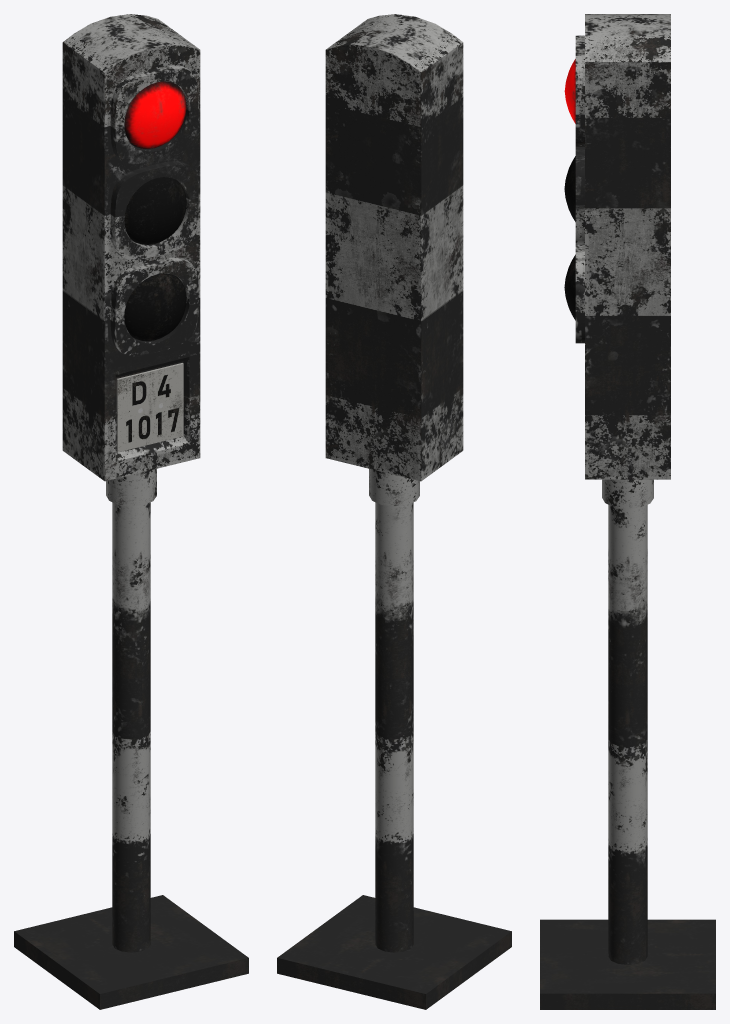
The model's file is subway_traffic_light__gameready.glb.
3 renders of one model, left to right at view 1: azimuth 30°, elevation 25°; view 2: azimuth 150°, elevation 25°; view 3: azimuth 270°, elevation 25°, orthographic. The views are drawn at different scales.
Visible parts, largest first — view 1: Semaforo_LP.001, PaloSemaforo_LP.001, LucesSemaforo_LP.001, CartelSemaforo_LP.001; view 2: Semaforo_LP.001, PaloSemaforo_LP.001; view 3: Semaforo_LP.001, PaloSemaforo_LP.001, LucesSemaforo_LP.001.
Part boxes in pixels (x1=…): Semaforo_LP.001: x1=62, y1=14, x2=200, y2=506; PaloSemaforo_LP.001: x1=14, y1=502, x2=248, y2=1009; LucesSemaforo_LP.001: x1=124, y1=81, x2=186, y2=341; CartelSemaforo_LP.001: x1=116, y1=363, x2=183, y2=452; Semaforo_LP.001: x1=325, y1=14, x2=463, y2=506; PaloSemaforo_LP.001: x1=277, y1=502, x2=511, y2=1009; Semaforo_LP.001: x1=575, y1=14, x2=670, y2=508; PaloSemaforo_LP.001: x1=540, y1=504, x2=715, y2=1009; LucesSemaforo_LP.001: x1=564, y1=59, x2=575, y2=320.
Size of the model in its own units: 33.15 by 198 by 33.15.
Materials: 1 (1 with a texture image).
